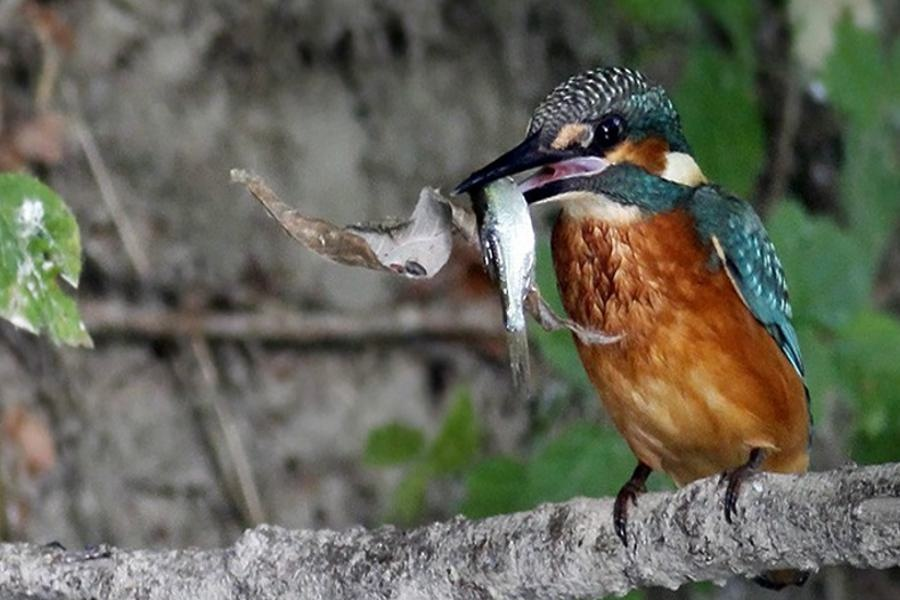kingfisher: (464, 58, 827, 509)
